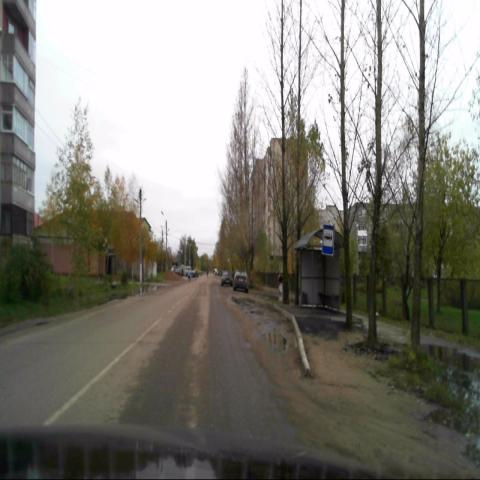5_16: (322, 222, 335, 256)
